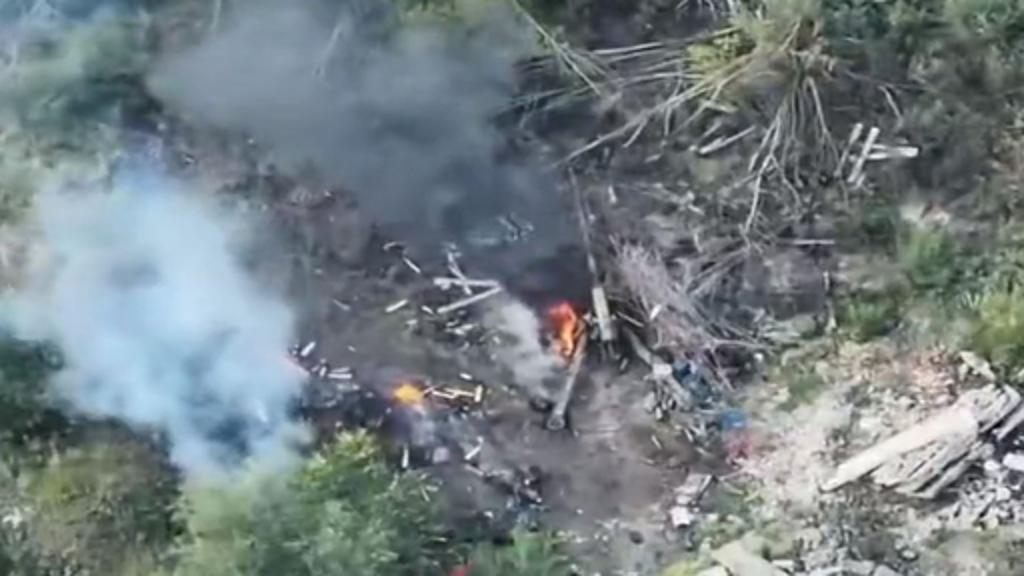ART: (538, 166, 698, 432)
